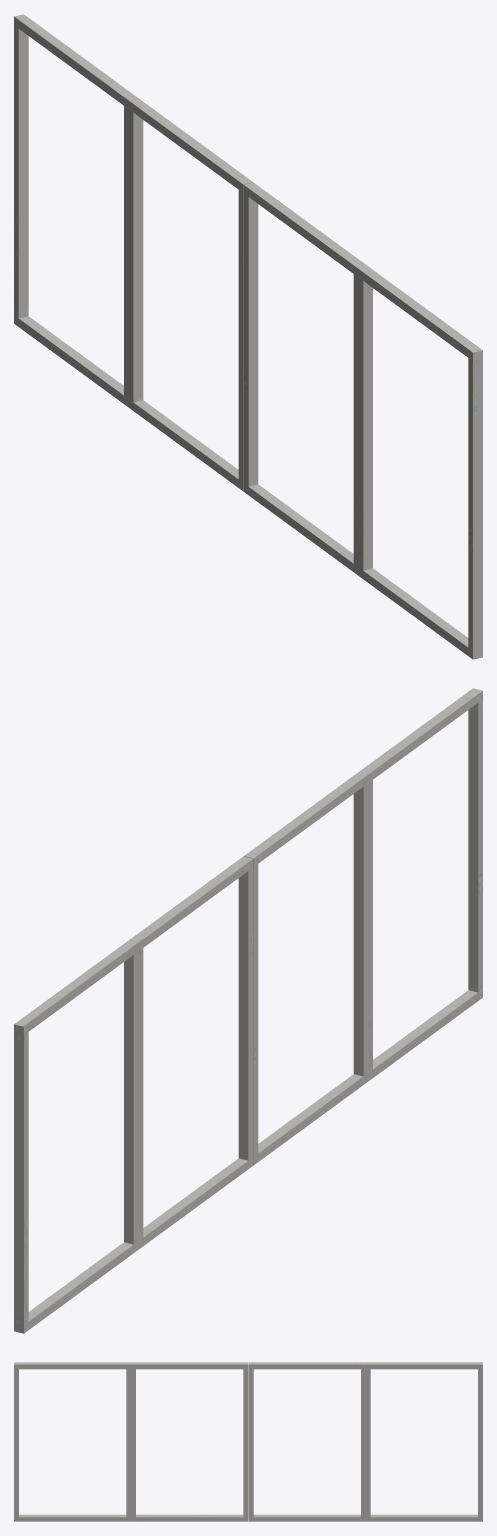
Rendered from Window4_0001.obj.
3 renders of one model, top to bottom at view 1: azimuth 30°, elevation 25°; view 2: azimuth 150°, elevation 25°; view 3: azimuth 270°, elevation 25°, orthographic. The views are drawn at different scales.
Bounding box in the file's own units: 0.06 × 1.78 × 4.84.
1 material, 1 textured.
